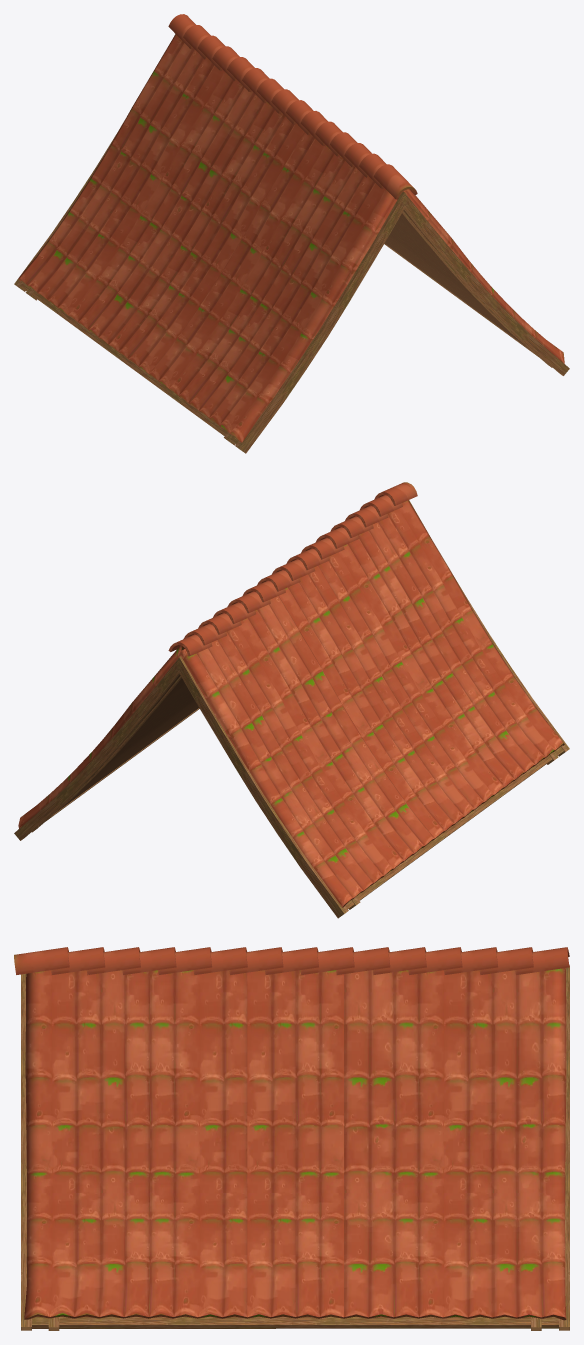
File: Roof_RoundTiles_8x10.gltf
3 views of the same model, one above another, from view 1: azimuth 30°, elevation 25°; view 2: azimuth 150°, elevation 25°; view 3: azimuth 270°, elevation 25° (orthographic). The views are drawn at different scales.
Parts seen in each view (by area): view 1: Roof_RoundTiles_8x10; view 2: Roof_RoundTiles_8x10; view 3: Roof_RoundTiles_8x10.
Boxes of the visible parts, x1,y1,x2,y2 form: Roof_RoundTiles_8x10: (14, 14, 569, 453); Roof_RoundTiles_8x10: (14, 482, 569, 918); Roof_RoundTiles_8x10: (14, 947, 569, 1330).
Size of the model in its own units: 9.95 by 6.78 by 11.86.
2 materials, 2 textured.
